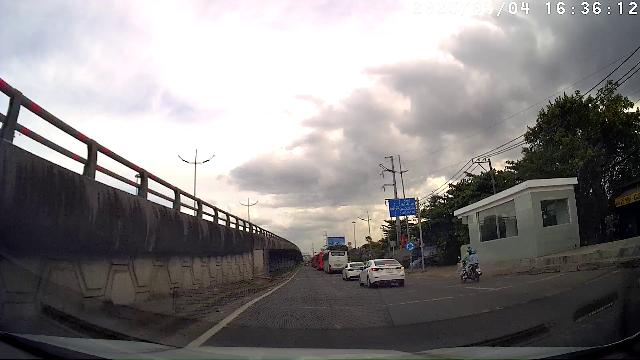303-noi-giao-nhau-chay-theo-vong-xuyen: (405, 242, 415, 250)
